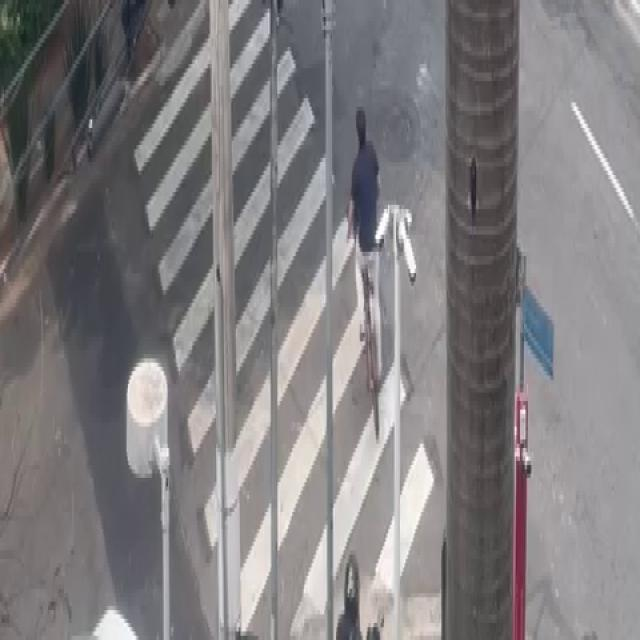bicycle: (347, 91, 388, 433)
